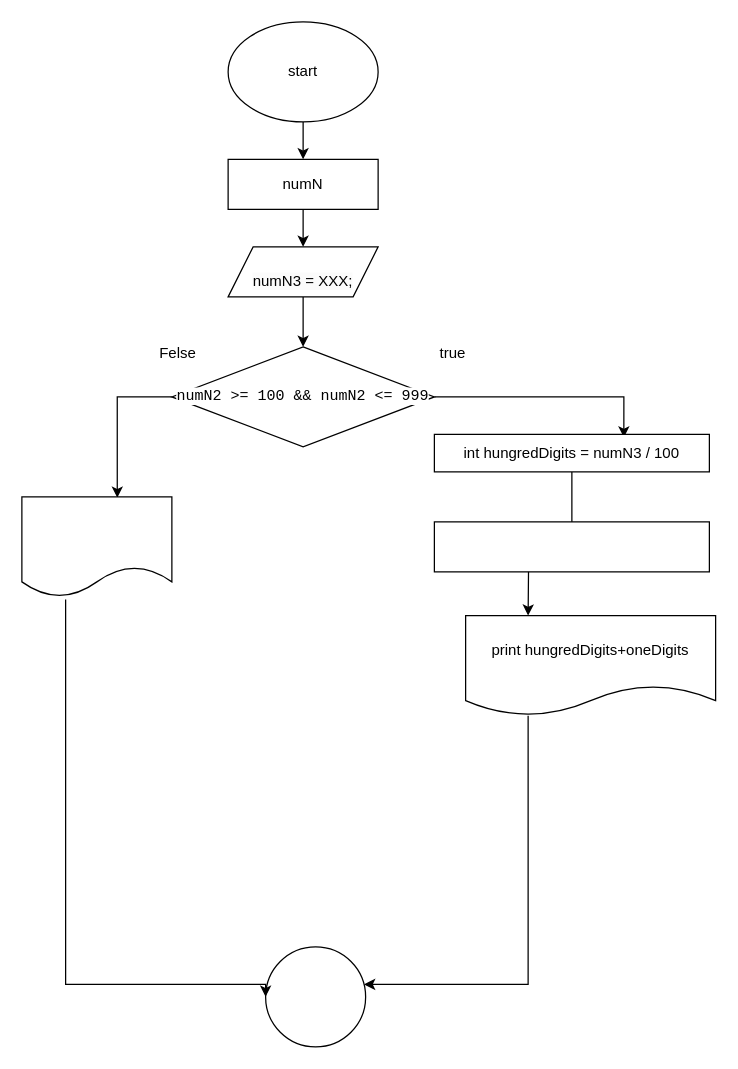
Image size: 738x1069. Some labels were removed from this diagram. Each missing label, with the box of its shape:
end: (264, 946, 366, 1047)
int oneDigits = numN3 % 10: (433, 521, 709, 572)
not three digits: (21, 496, 172, 597)
